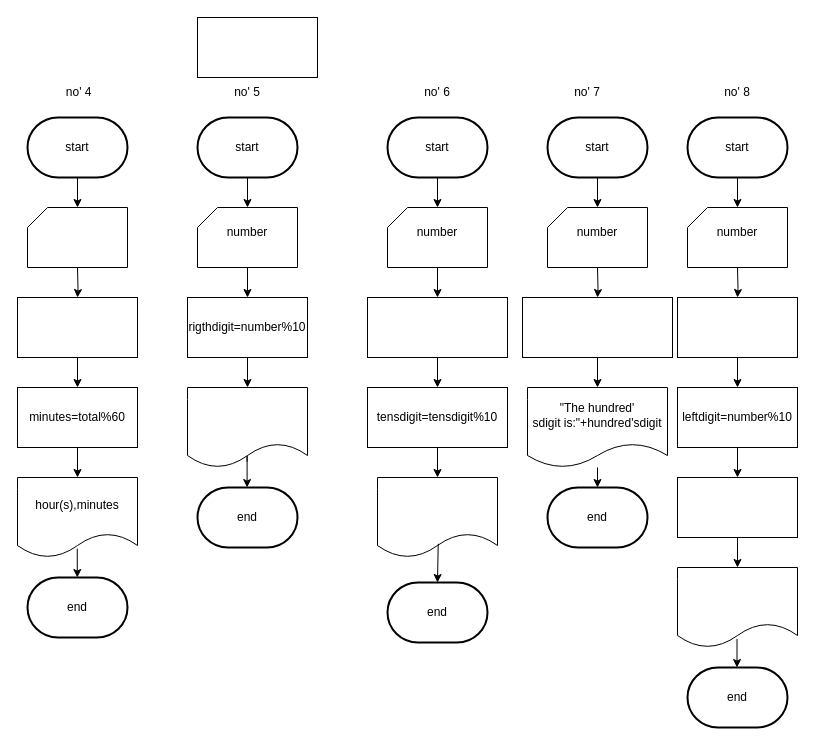
The diagram is 815 pixels wide and 746 high, and some of its shapes have lost their labels. The centre of each missing label's shape, as x and y in pixels:
"The rigth digit is:"+rigthdigit: (247,427)
"The sum of the digits is:"+sum: (737,607)
"The tens digit is:"+tensdigit: (437,517)
hour=(lnt)total/60: (77,327)
hundred'sdigit=number/100: (597,327)
Page 15: (257,47)
rigthdigit=number/10: (737,327)
sum=rigthdigit+leftdigit: (737,507)
tensdigit=(int)number/10: (437,327)
total: (77,237)
